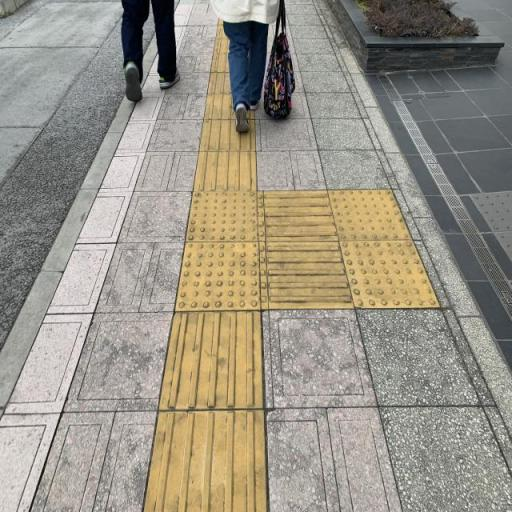dot: (340, 240, 440, 310), (174, 241, 261, 312), (328, 189, 413, 241), (186, 190, 258, 242)
line: (141, 410, 268, 511), (156, 311, 263, 411), (265, 242, 355, 309), (263, 190, 340, 243), (192, 151, 260, 191)
